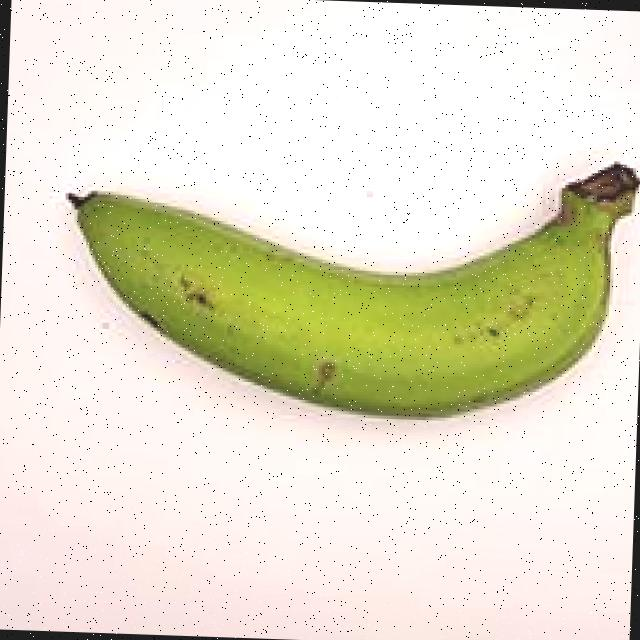Raw: (31, 102, 640, 459)
